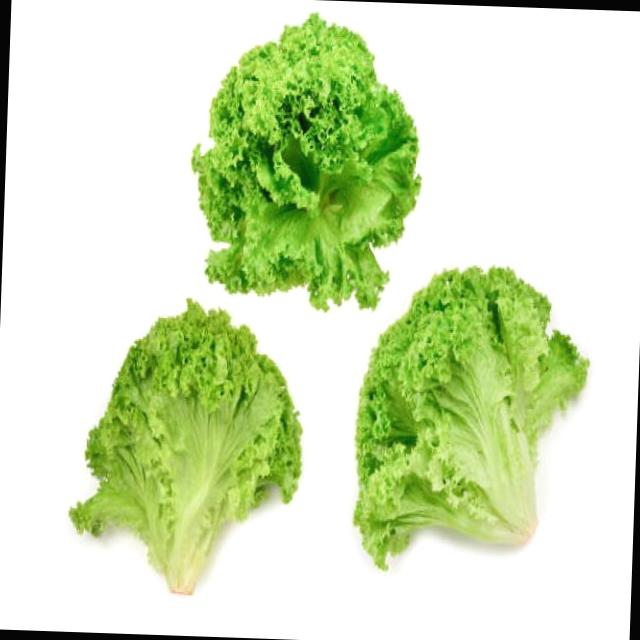Lettuce-Ready-to-Harvest: (354, 268, 587, 567), (71, 302, 300, 593), (193, 15, 419, 307)
